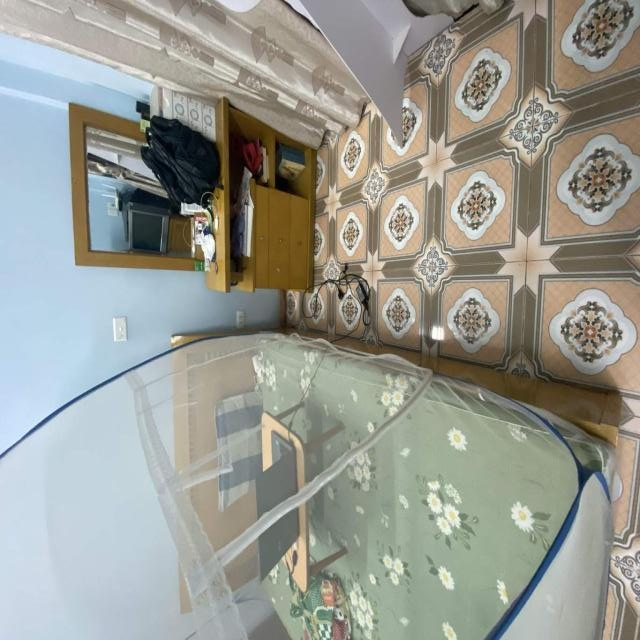outlet: (236, 311, 245, 329)
